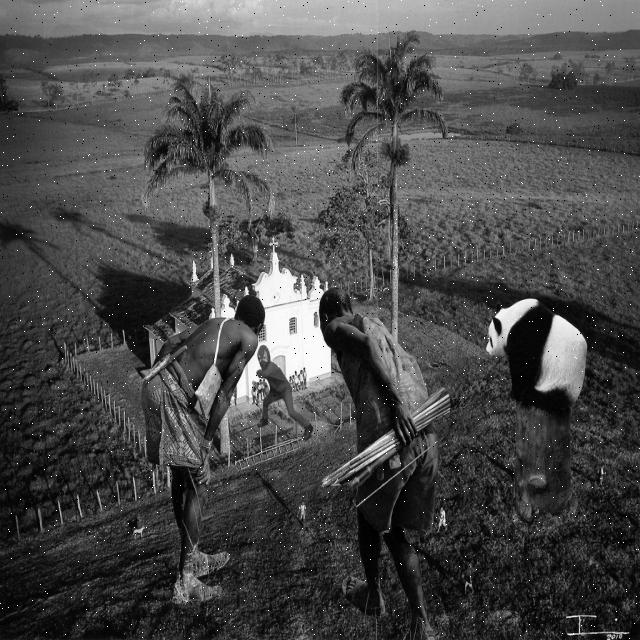panda: (481, 295, 588, 417)
